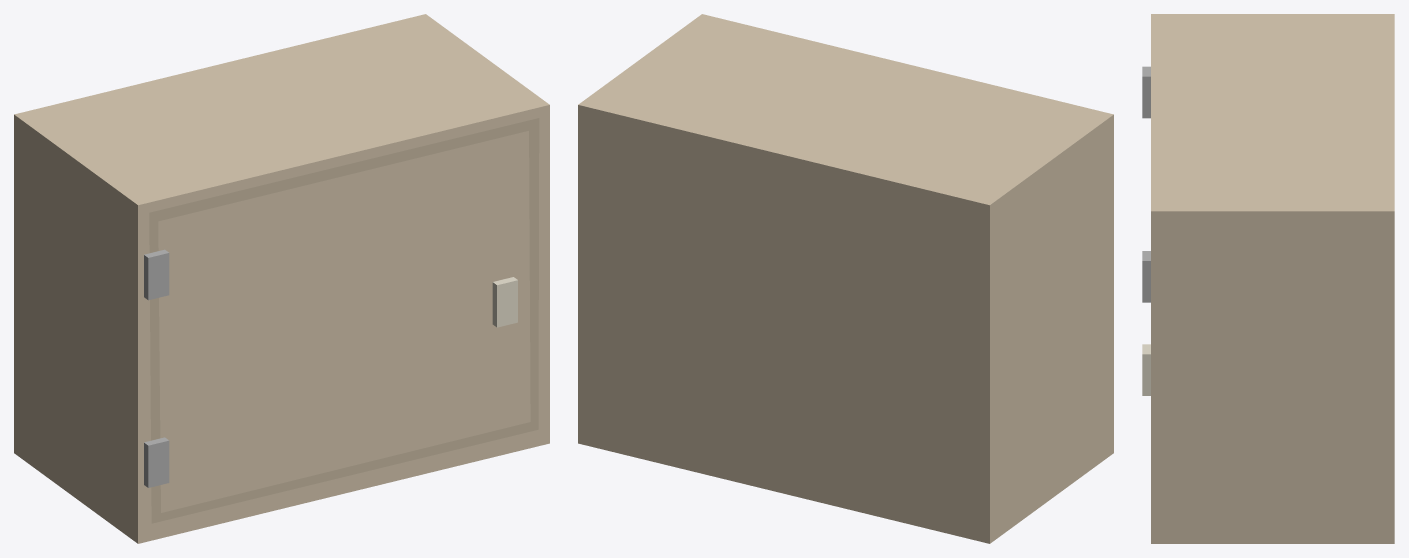
Rendered from locker1.fbx.
The picture shows the model from 3 angles, left to right: view 1: azimuth 30°, elevation 25°; view 2: azimuth 150°, elevation 25°; view 3: azimuth 270°, elevation 25°; orthographic projection.
Parts seen in each view (by area): view 1: Null_1; view 2: Null_1; view 3: Null_1.
Boxes of the visible parts, x1=… form: Null_1: x1=14, y1=14, x2=549, y2=543; Null_1: x1=578, y1=14, x2=1113, y2=543; Null_1: x1=1142, y1=14, x2=1394, y2=543.
Size of the model in its own units: 82.44 by 64.78 by 44.56.
